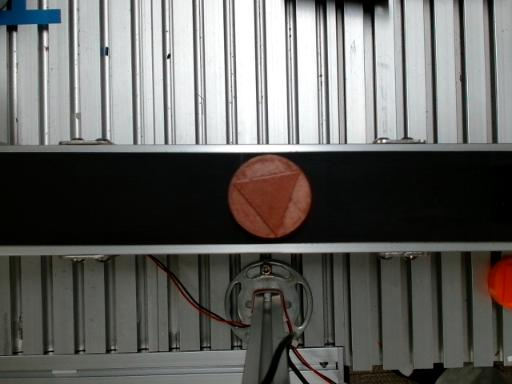Brown_Waper: (229, 155, 310, 238)
Not_Square: (232, 171, 301, 237)
